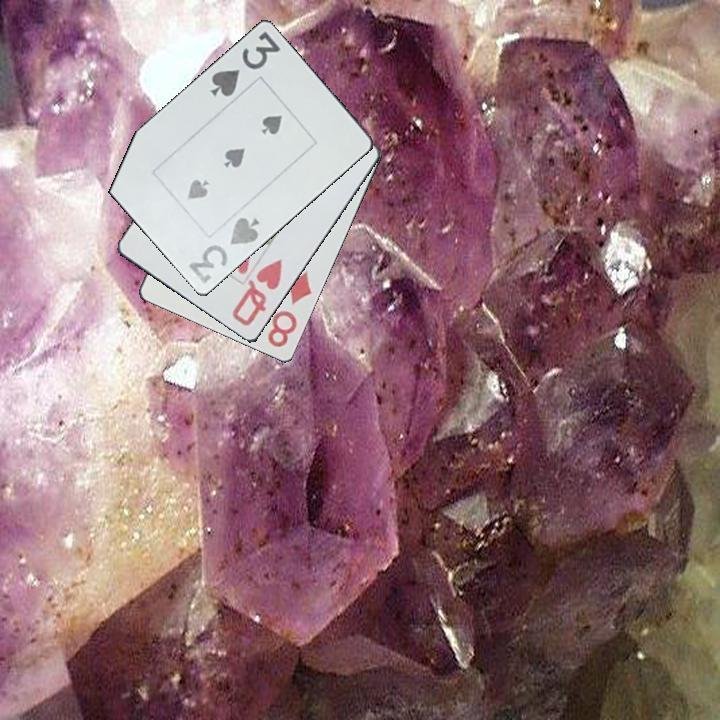3s: (185, 213, 263, 287), (206, 28, 283, 100)
8d: (264, 268, 315, 351)
Qh: (227, 255, 285, 330)
